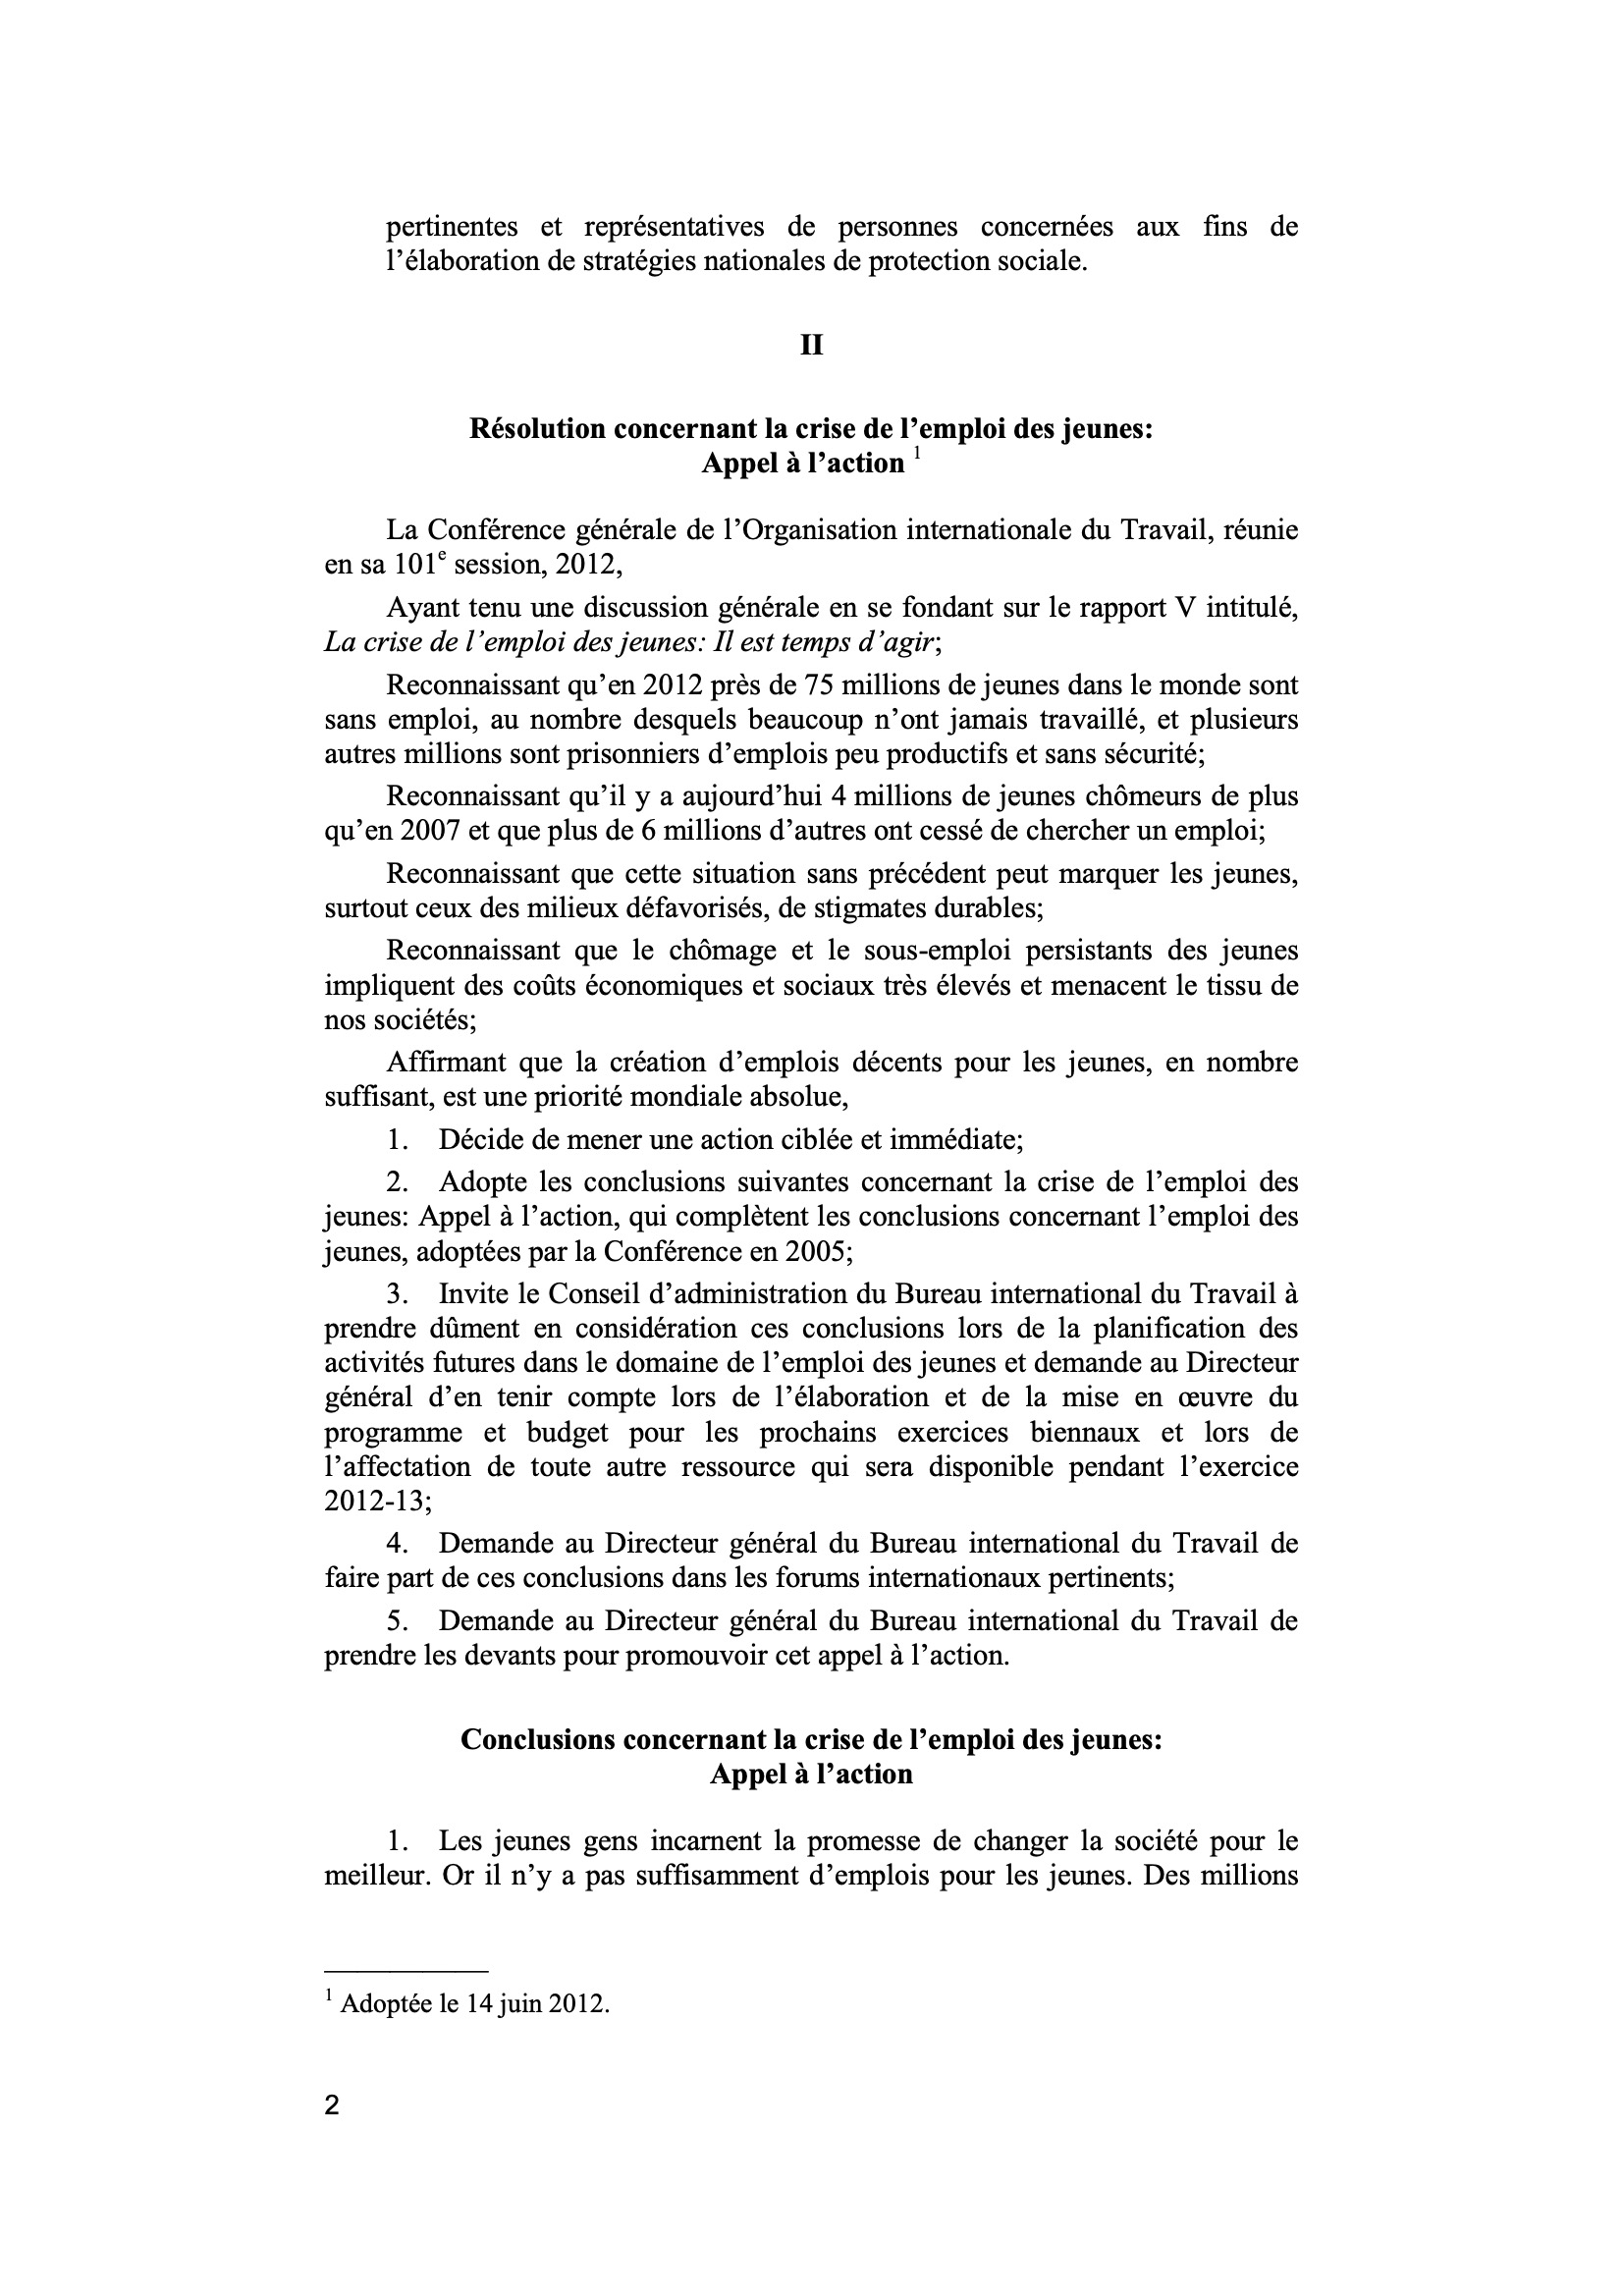MainZone-Continued: (370, 203, 1306, 291)
MainZone-Head: (452, 408, 1281, 488), (443, 1715, 1180, 1797), (793, 323, 836, 371)
MainZone-ListItem: (307, 1273, 1308, 1516), (305, 1161, 1310, 1270), (312, 1818, 1311, 1905), (309, 1518, 1309, 1598), (309, 1601, 1308, 1680), (343, 1120, 1299, 1160)
MainZone-P: (306, 664, 1305, 771), (310, 931, 1306, 1038), (308, 508, 1305, 586), (296, 1041, 1307, 1118), (305, 854, 1307, 929), (304, 778, 1304, 851), (308, 587, 1305, 661)
MarginTextZone-Notes: (313, 1977, 623, 2034)
TitlePageZone: (320, 2089, 353, 2128)
